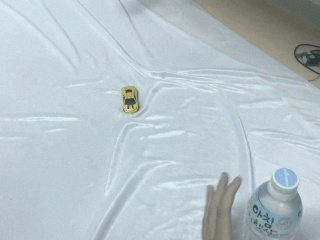bottle: (245, 167, 303, 239)
toy_car: (121, 86, 140, 114)
